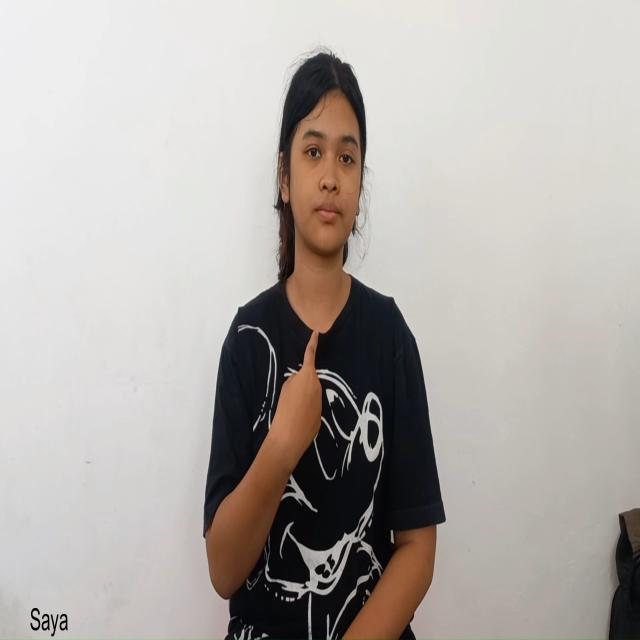Saya -BISINDO-: (199, 315, 324, 603)
